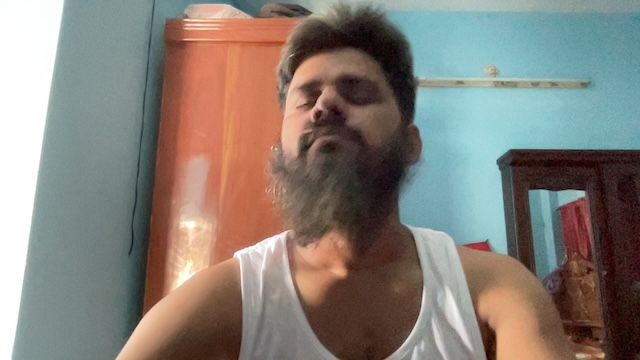Goggles: (271, 44, 413, 235)
